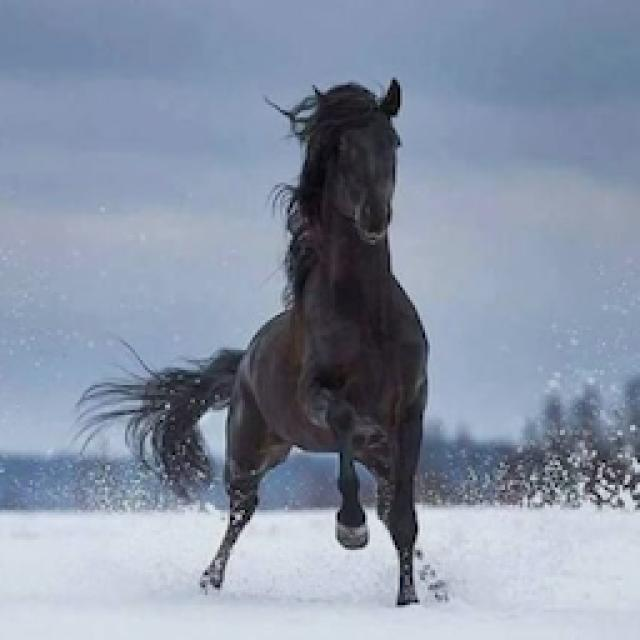Horse: (68, 70, 452, 610)
